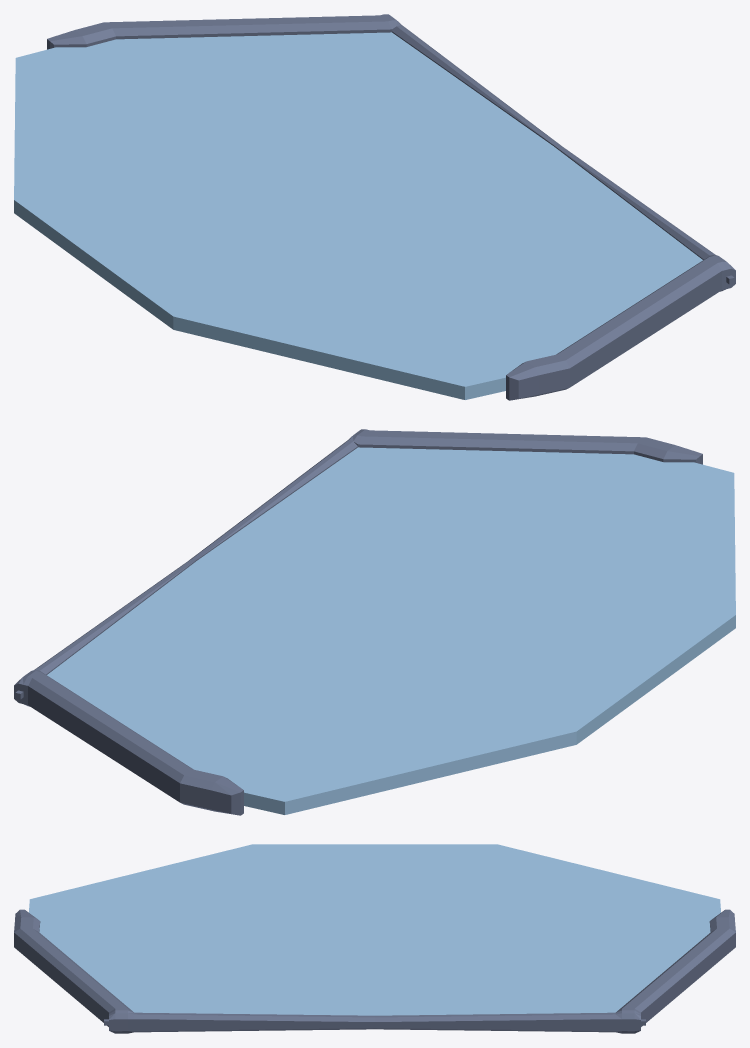
The model's file is LiftScreen.glb.
3 renders of one model, top to bottom at view 1: azimuth 30°, elevation 25°; view 2: azimuth 150°, elevation 25°; view 3: azimuth 270°, elevation 25°, orthographic. The views are drawn at different scales.
Parts seen in each view (by area): view 1: Cube.006, Cube.005; view 2: Cube.006, Cube.005; view 3: Cube.006, Cube.005.
Boxes of the visible parts, x1,y1,x2,y2 form: Cube.006: (14, 32, 702, 399); Cube.005: (47, 14, 735, 400); Cube.006: (47, 447, 735, 814); Cube.005: (14, 429, 702, 815); Cube.006: (29, 844, 720, 1015); Cube.005: (14, 909, 735, 1033).
Bounding box in the file's own units: 1.47 × 0.088 × 2.56.
